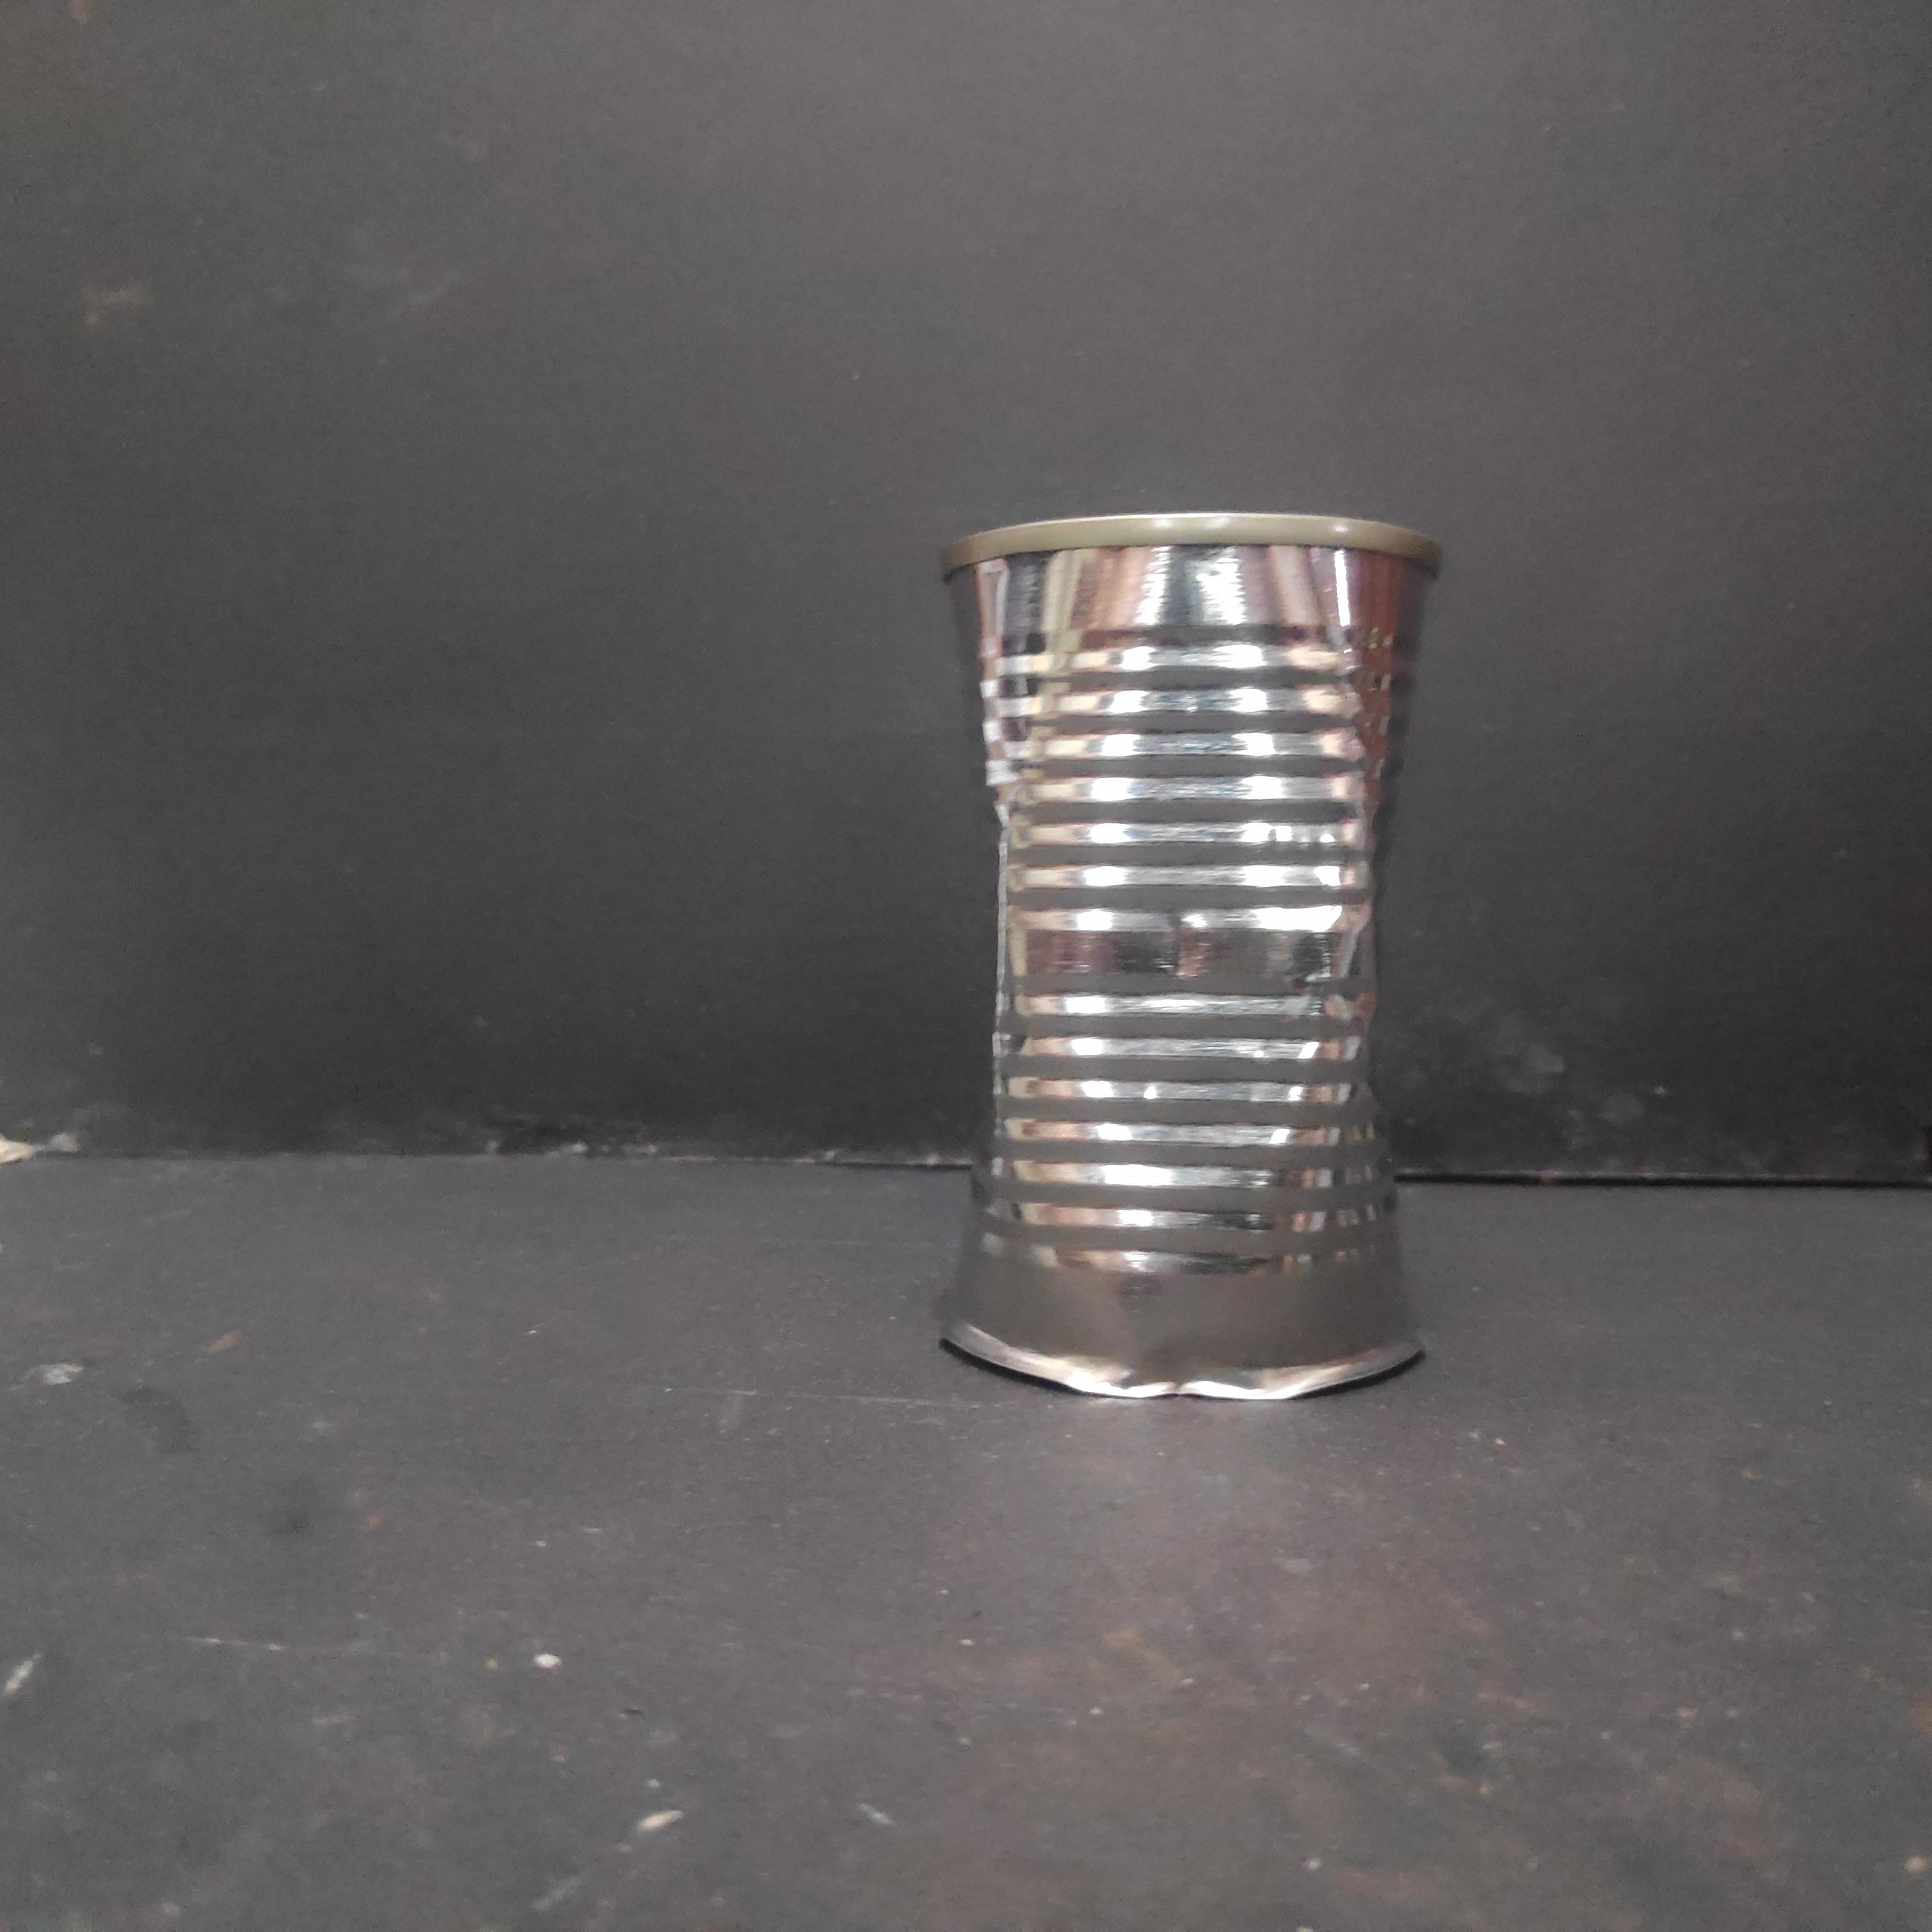Minor Defect: (931, 499, 1449, 1417)
